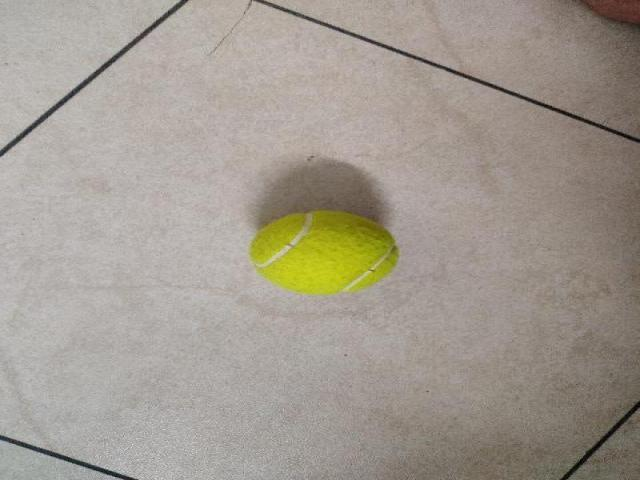tennis-ball: (247, 210, 398, 295)
